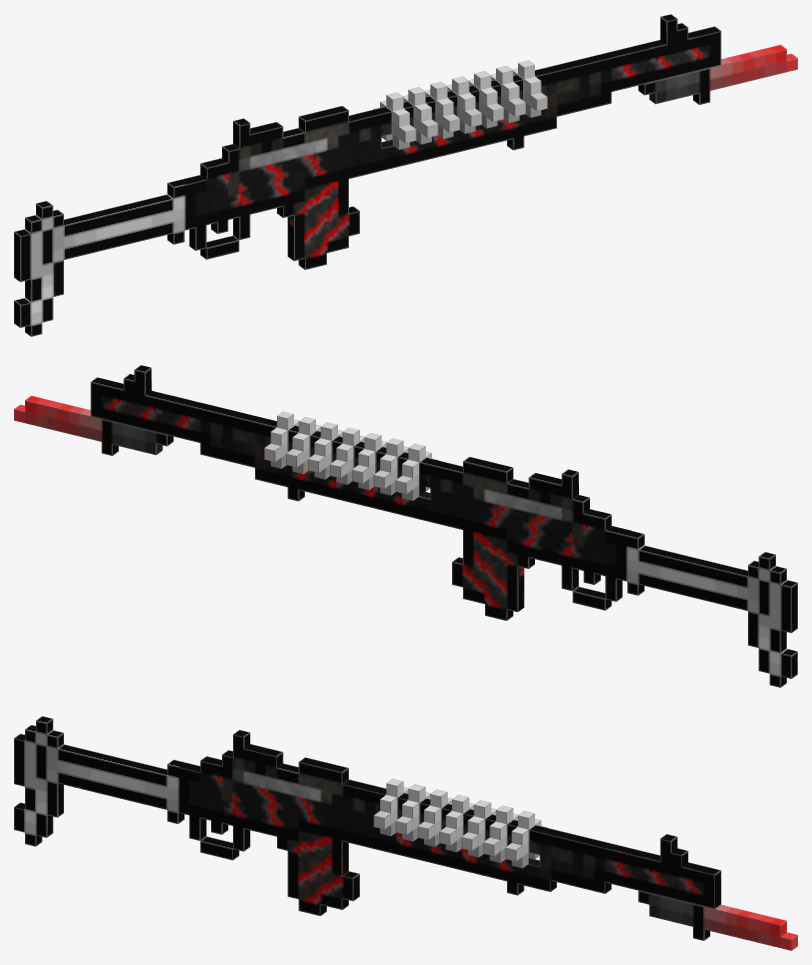
File: M14_BONES.glb
The picture shows the model from 3 angles, top to bottom: view 1: azimuth 30°, elevation 25°; view 2: azimuth 150°, elevation 25°; view 3: azimuth 330°, elevation 25°; orthographic projection.
Parts seen in each view (by area): view 1: M14_BONES; view 2: M14_BONES; view 3: M14_BONES.
Boxes of the visible parts, bbox=[...] form: M14_BONES: bbox=[14, 14, 797, 336]; M14_BONES: bbox=[14, 365, 797, 687]; M14_BONES: bbox=[14, 716, 797, 950].
Size of the model in its own units: 1.98 by 0.3906 by 0.1395.
1 material, 1 textured.
